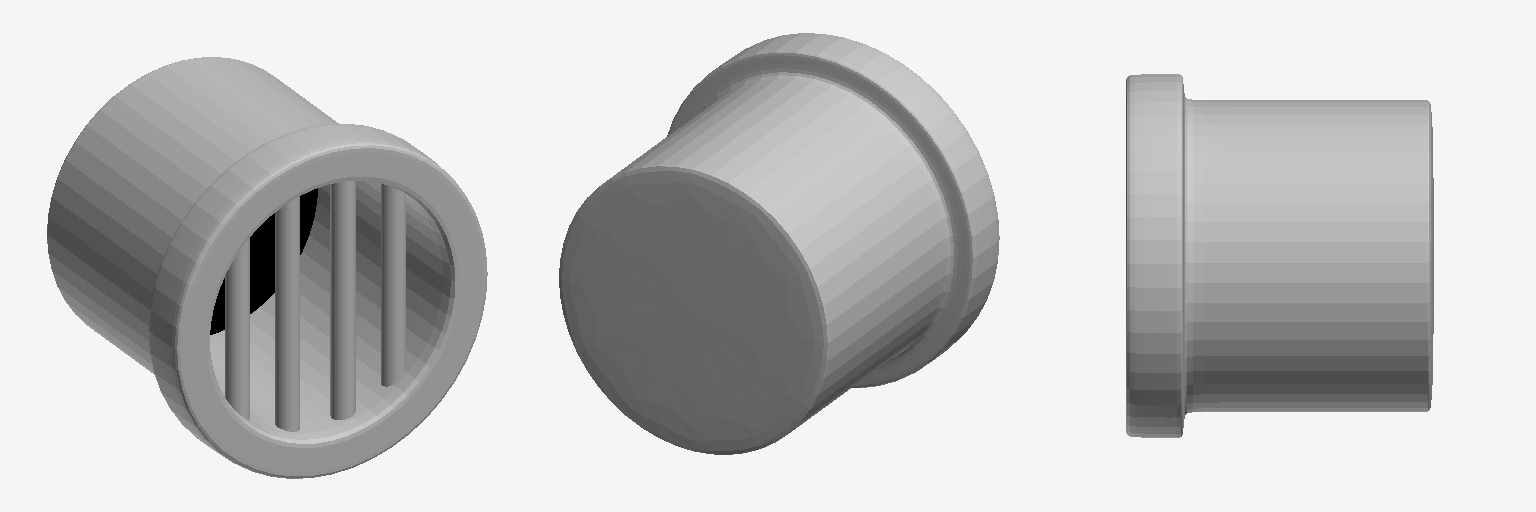
The model's file is SewerPipe.obj.
3 renders of one model, left to right at view 1: azimuth 30°, elevation 25°; view 2: azimuth 150°, elevation 25°; view 3: azimuth 270°, elevation 25°, orthographic.
Parts seen in each view (by area): view 1: Pipe_Cylinder.002; view 2: Pipe_Cylinder.002; view 3: Pipe_Cylinder.002.
Part boxes in pixels (bbox=[...]): Pipe_Cylinder.002: bbox=[47, 57, 487, 478]; Pipe_Cylinder.002: bbox=[559, 33, 999, 454]; Pipe_Cylinder.002: bbox=[1126, 74, 1433, 437].
Size of the model in its own units: 4.66 by 4.66 by 3.94.